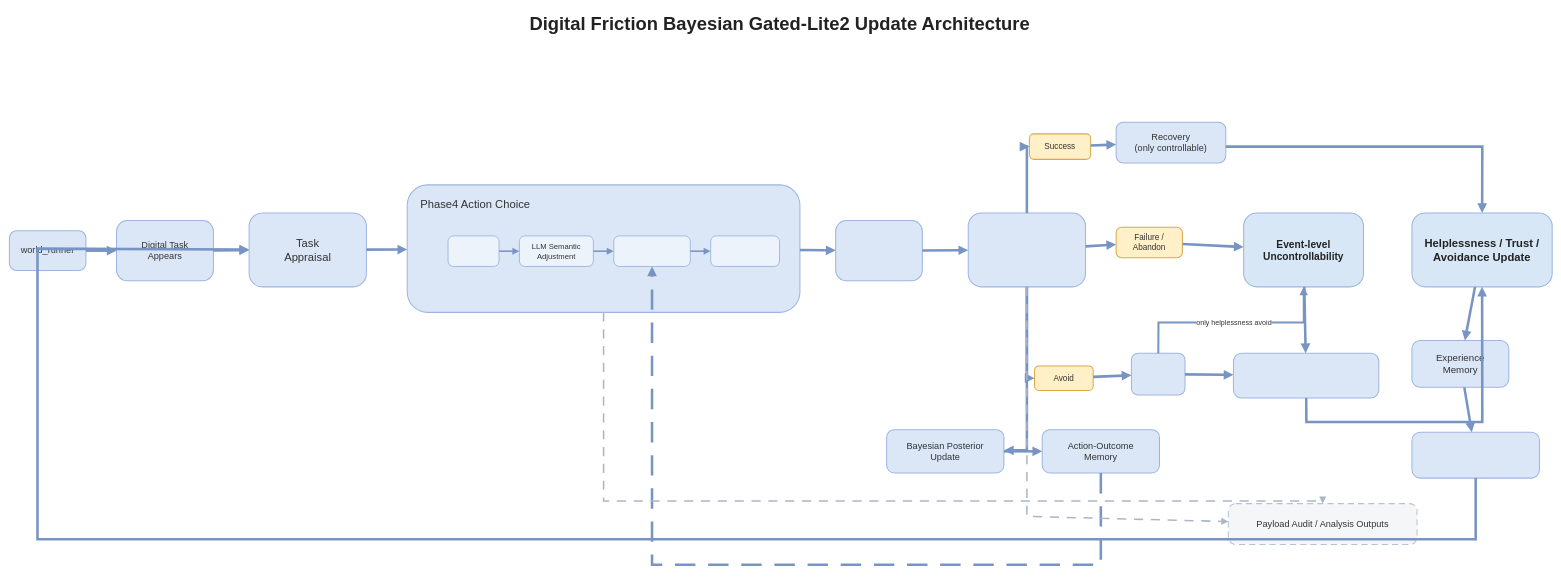
Image size: 1561x579. Some labels were removed from this diagram. The shapes that lost their labels are listed below. From the top down, each one's centre as x and y in pixels, then its label:
(473,251): Weak Prior
(651,251): Bayesian Predictive Policy
(745,251): Gated Bounded Shift
(879,250): Sampled Action
(1026,249): Digital Task Outcome
(1158,373): Avoid Reason
(1306,375): Attribution / Avoid Reason / Support Mode
(1475,454): Stream Memory / Reflection / Interview
